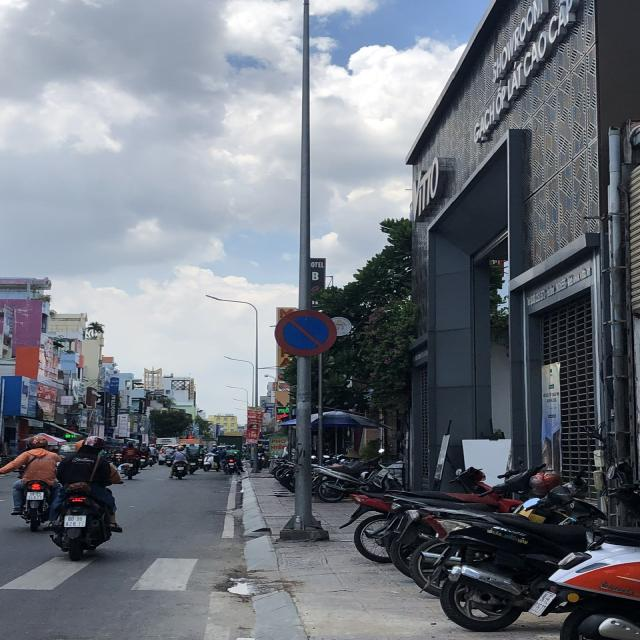Bien bao cam do xe: (270, 304, 338, 358)
